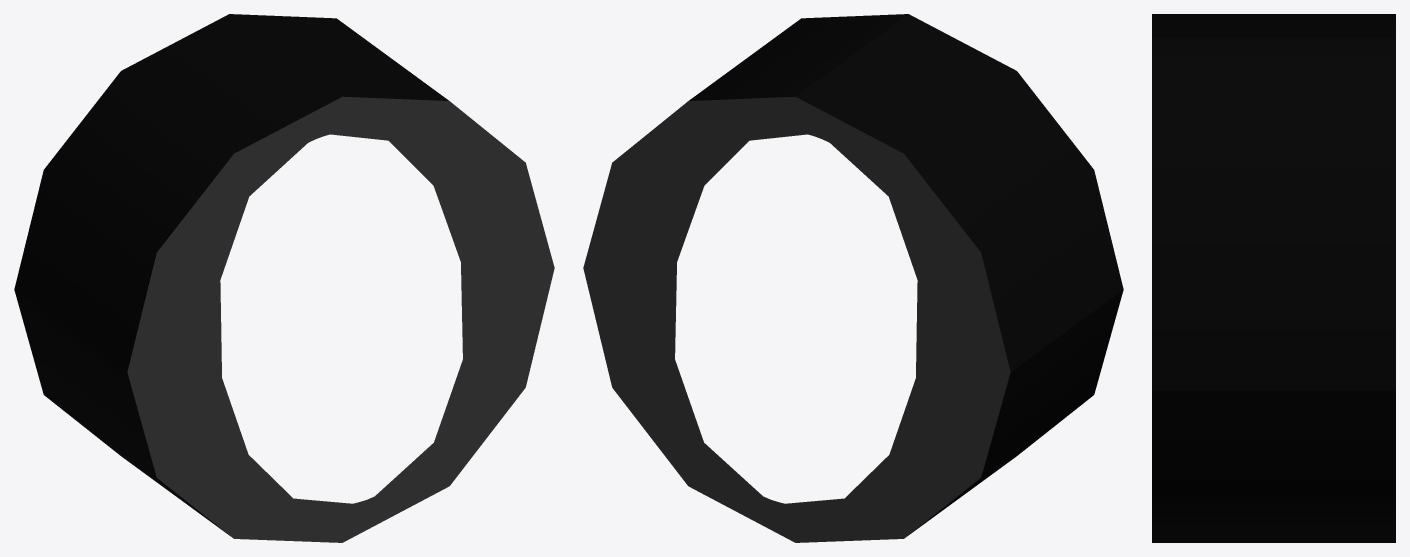
File: O_Soul_Black.glb
3 views of the same model, side by side, from view 1: azimuth 30°, elevation 25°; view 2: azimuth 150°, elevation 25°; view 3: azimuth 270°, elevation 25° (orthographic). The views are drawn at different scales.
Visible parts, largest first — view 1: o_Soul_Black; view 2: o_Soul_Black; view 3: o_Soul_Black.
Part boxes in pixels (x1,y1,x2,y2): o_Soul_Black: [14, 14, 554, 542]; o_Soul_Black: [583, 14, 1123, 542]; o_Soul_Black: [1152, 14, 1395, 542].
Size of what is drawn, in the model's own units: 0.0982 by 0.098 by 0.045.
2 materials, 2 textured.
